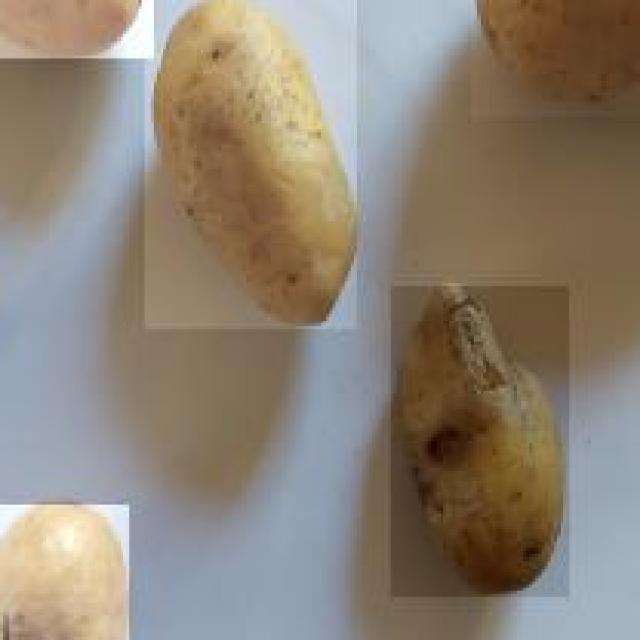potato: (141, 0, 357, 323), (391, 282, 572, 598), (0, 498, 132, 639)
